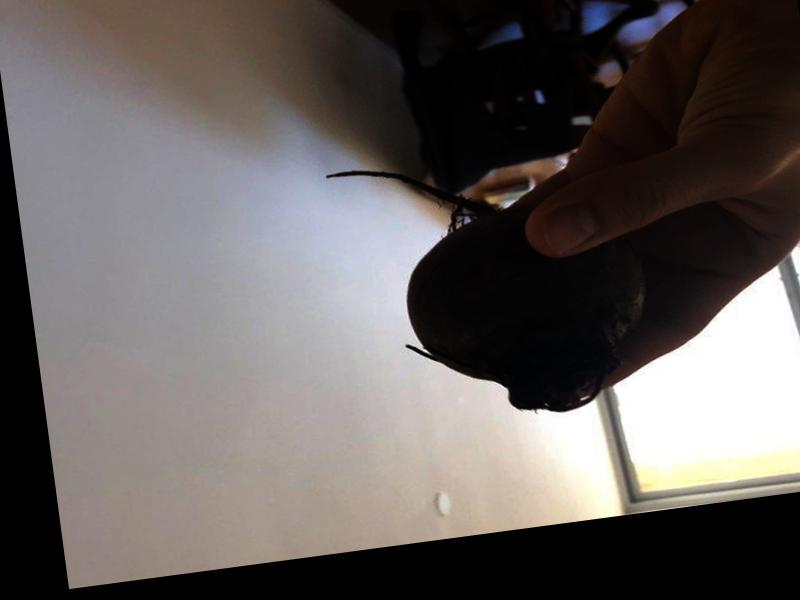Beet: (326, 134, 659, 438)
